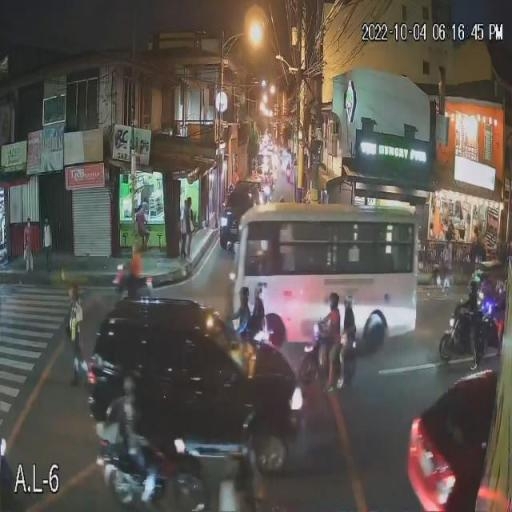helmet: (324, 290, 342, 312), (121, 374, 137, 396), (340, 294, 359, 310), (239, 286, 251, 306), (469, 277, 482, 292), (252, 282, 265, 295)
motorcycle: (94, 419, 208, 511), (438, 303, 503, 364), (296, 325, 356, 386), (228, 322, 274, 354)
rider: (119, 374, 163, 502), (452, 278, 486, 371), (318, 292, 343, 391), (114, 242, 152, 299), (340, 294, 358, 386), (231, 286, 255, 340), (252, 292, 266, 342)
